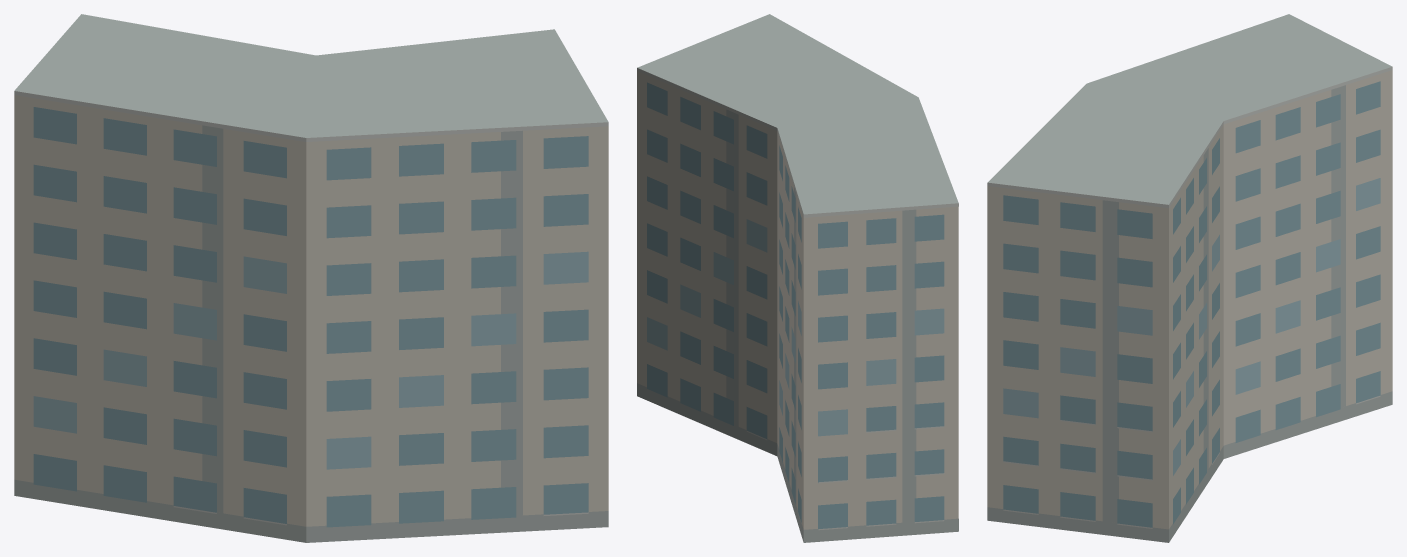
Rendered from residential-e232835f-9e83-4ca1-bb3d-6856db4f5bb2.glb.
The picture shows the model from 3 angles, left to right: view 1: azimuth 30°, elevation 25°; view 2: azimuth 150°, elevation 25°; view 3: azimuth 270°, elevation 25°; orthographic projection. The views are drawn at different scales.
Parts seen in each view (by area): view 1: residential-e232835f-9e83-4ca1-bb3d-6856db4f5bb2.tmp; view 2: residential-e232835f-9e83-4ca1-bb3d-6856db4f5bb2.tmp; view 3: residential-e232835f-9e83-4ca1-bb3d-6856db4f5bb2.tmp.
Part boxes in pixels (<box>): residential-e232835f-9e83-4ca1-bb3d-6856db4f5bb2.tmp: <box>14,14,608,542</box>; residential-e232835f-9e83-4ca1-bb3d-6856db4f5bb2.tmp: <box>637,14,958,542</box>; residential-e232835f-9e83-4ca1-bb3d-6856db4f5bb2.tmp: <box>987,14,1392,542</box>.
Size of the model in its own units: 29.07 by 24 by 26.08.
